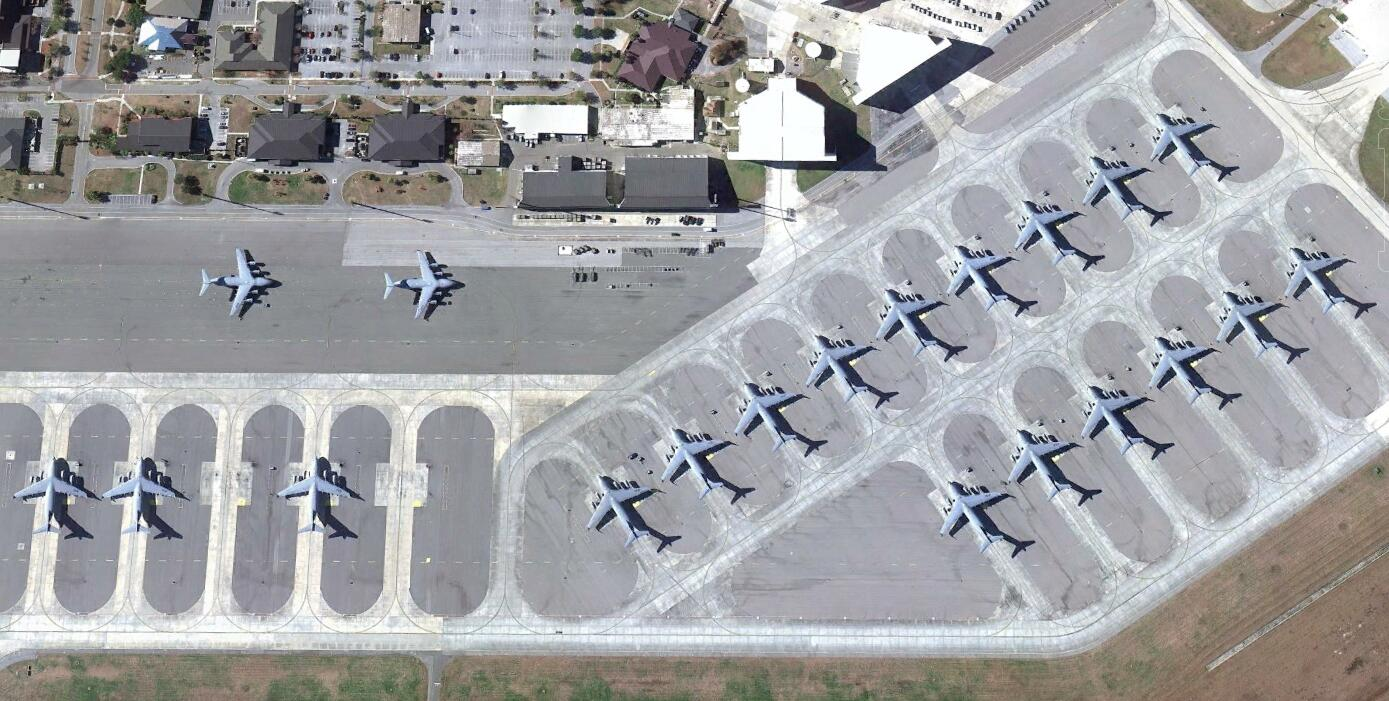A3: (275, 458, 359, 539), (102, 456, 184, 536), (14, 458, 96, 537), (199, 247, 284, 316), (1078, 382, 1157, 455), (384, 250, 462, 322), (935, 476, 1008, 552), (871, 283, 947, 353), (1283, 243, 1356, 315), (1003, 425, 1075, 498), (660, 425, 727, 500), (586, 474, 654, 547), (1012, 198, 1086, 265), (805, 330, 871, 403), (1153, 334, 1221, 404), (944, 242, 1014, 309), (1081, 153, 1148, 221), (735, 379, 800, 449), (1150, 109, 1217, 176), (1217, 292, 1286, 356)
